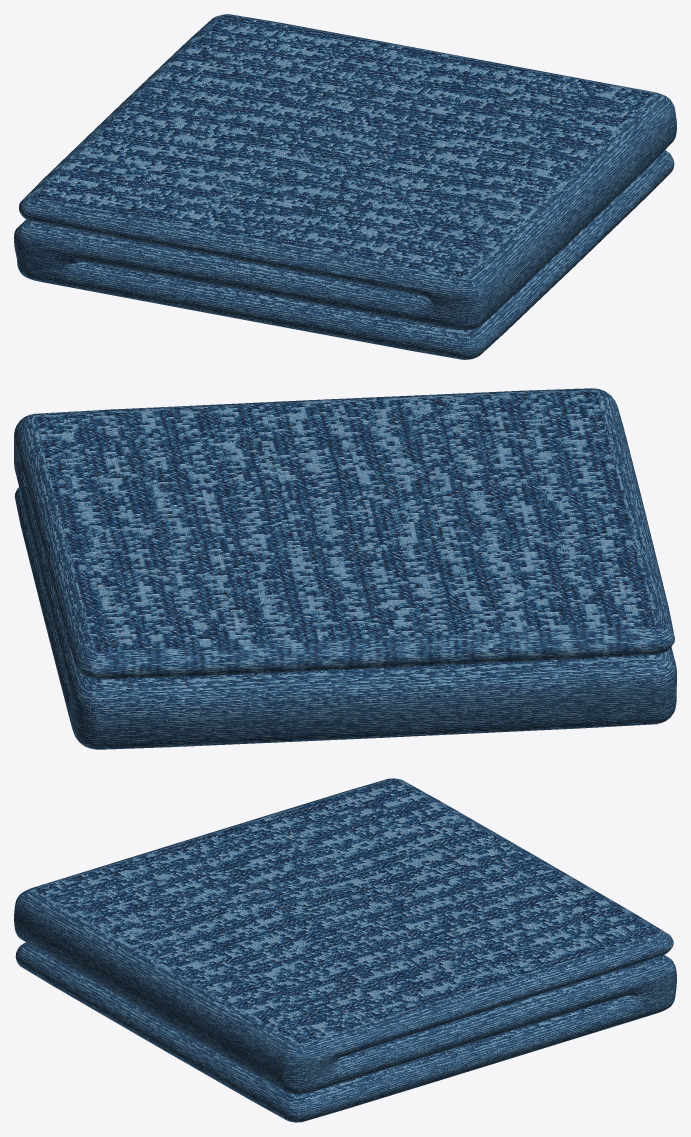
The model's file is sweater4.fbx.
3 views of the same model, one above another, from view 1: azimuth 30°, elevation 25°; view 2: azimuth 150°, elevation 25°; view 3: azimuth 270°, elevation 25° (orthographic). The views are drawn at different scales.
Parts seen in each view (by area): view 1: pCube53; view 2: pCube53; view 3: pCube53.
Boxes of the visible parts, x1=… form: pCube53: x1=14, y1=14, x2=676, y2=359; pCube53: x1=14, y1=388, x2=676, y2=749; pCube53: x1=14, y1=778, x2=676, y2=1122.
Size of the model in its own units: 0.0136 by 0.00186 by 0.0136.
1 material, 1 textured.
